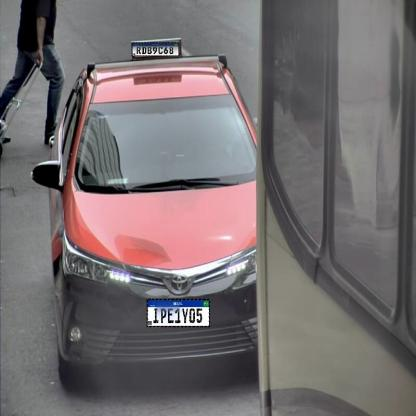PlacaM: (147, 299, 210, 327), (132, 42, 180, 56)
